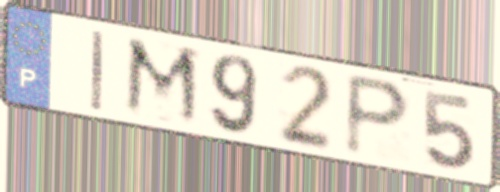2: (277, 63, 336, 153)
5: (421, 87, 478, 172)
9: (205, 52, 265, 137)
I: (89, 27, 107, 115)
M: (120, 33, 204, 131)
P: (341, 70, 415, 161)
